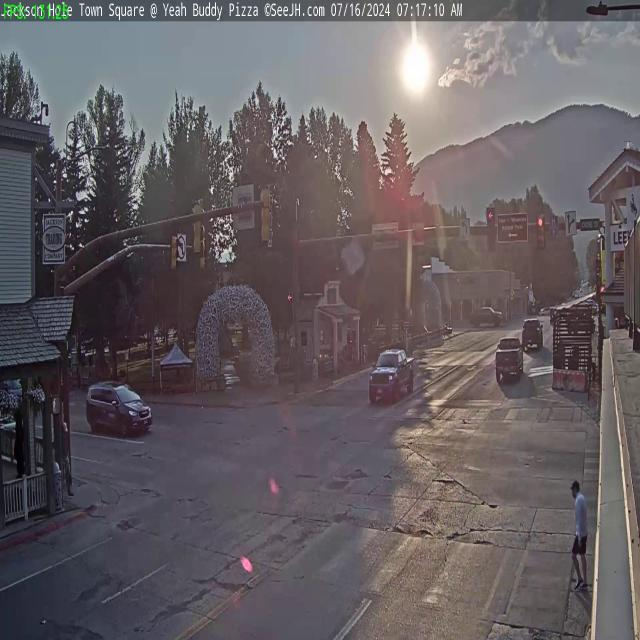person: (568, 476, 592, 596), (60, 416, 74, 498)
pickup: (368, 346, 414, 404), (495, 332, 523, 378)
suv: (85, 377, 153, 438), (522, 316, 543, 346)
traffic light: (260, 184, 272, 244), (191, 199, 203, 256), (486, 207, 496, 252), (170, 234, 180, 272), (536, 214, 545, 249)
